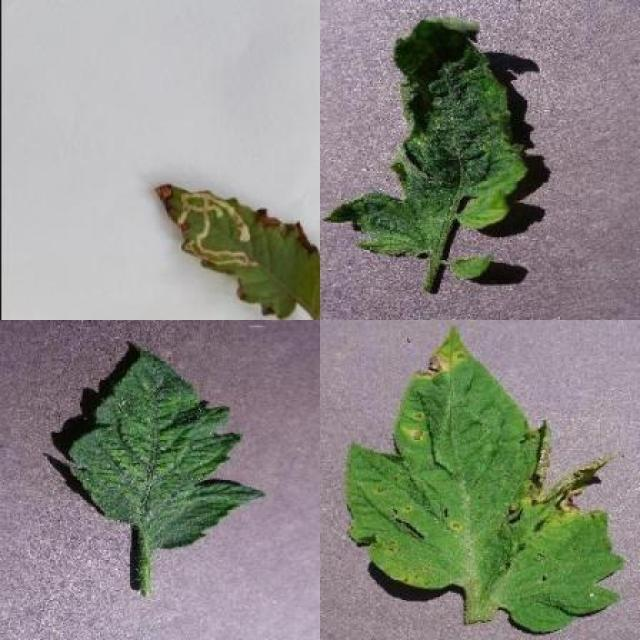Leaf Miner: (151, 183, 320, 320)
Mosaic Virus: (322, 15, 532, 258), (68, 350, 265, 550)
Septoria: (340, 326, 627, 634)
